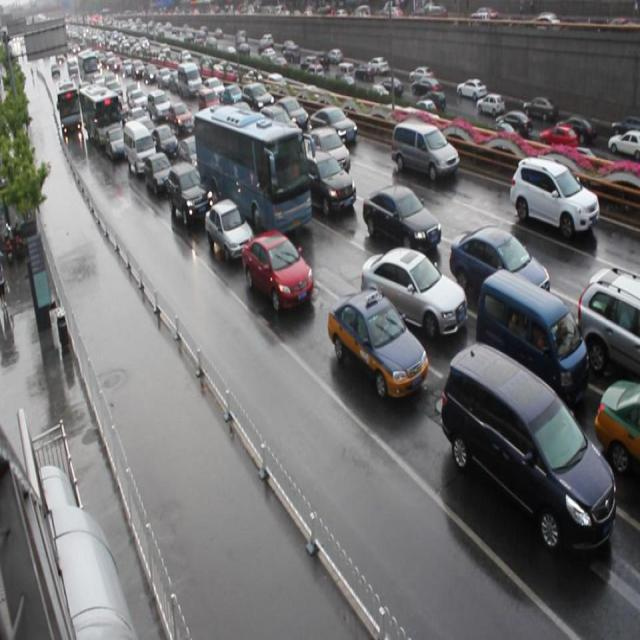car: (326, 289, 426, 401), (359, 248, 465, 339), (449, 224, 548, 302), (574, 267, 640, 380), (509, 156, 597, 240), (239, 232, 312, 314), (360, 186, 439, 256), (590, 379, 640, 474), (300, 150, 356, 219), (202, 199, 253, 260), (168, 162, 210, 223), (304, 128, 349, 178), (308, 105, 355, 150), (270, 97, 305, 134), (142, 152, 172, 194), (176, 138, 206, 173), (150, 125, 177, 159)
truck: (439, 342, 614, 554), (473, 270, 587, 396), (391, 117, 458, 182)
van: (194, 105, 310, 239)
